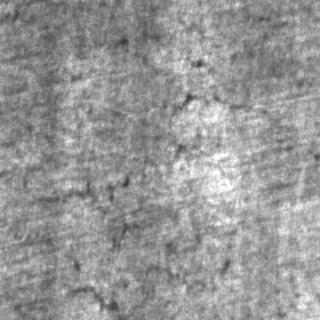crazing: (12, 223, 236, 317), (8, 157, 195, 256), (160, 66, 292, 174)
